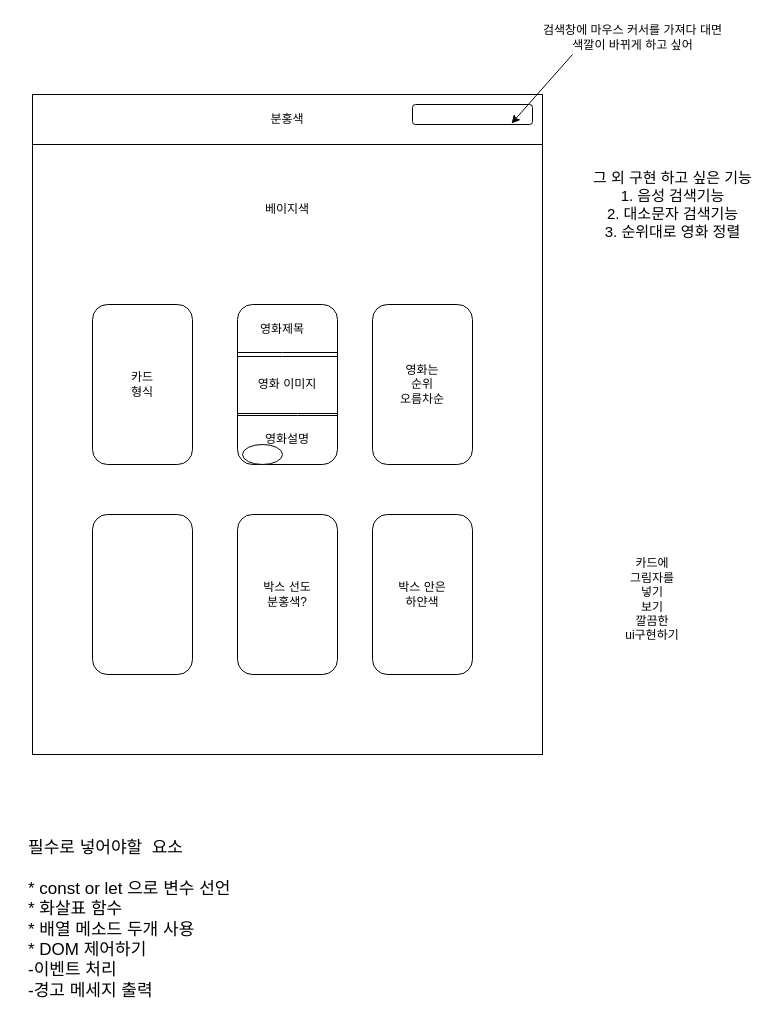
Image size: 784x1031. Some labels were removed from this diagram. The shapes that lost their labels are listed below. From the top down, each one's centre as x and y in pixels, then its label:
At pixel 472 114: "검색창".
At pixel 262 454: "평점".
